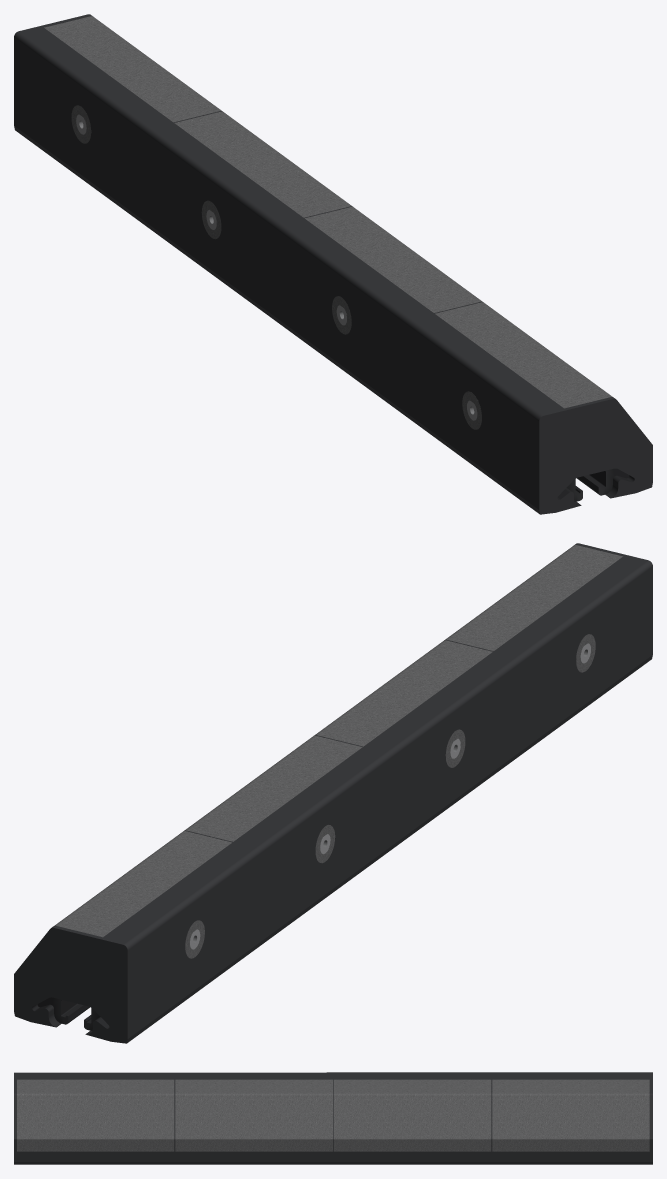
File: ball-shell-liner-composite.glb
3 renders of one model, top to bottom at view 1: azimuth 30°, elevation 25°; view 2: azimuth 150°, elevation 25°; view 3: azimuth 270°, elevation 25°, orthographic. The views are drawn at different scales.
Parts seen in each view (by area): view 1: composite, compositeInsert; view 2: composite, compositeInsert; view 3: compositeInsert, composite.
Part boxes in pixels (left/top/right/bottom): composite: left=14, top=14, right=652, bottom=514; compositeInsert: left=44, top=16, right=612, bottom=429; composite: left=14, top=543, right=652, bottom=1043; compositeInsert: left=54, top=545, right=622, bottom=958; compositeInsert: left=17, top=1079, right=649, bottom=1151; composite: left=14, top=1072, right=652, bottom=1164.
Bounding box in the file's own units: 0.2501 × 0.21 × 2.
3 materials, 1 textured.
